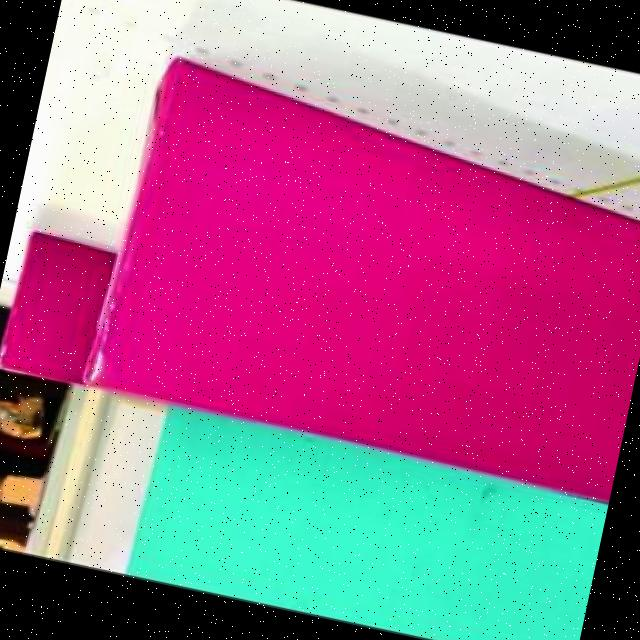xparking: (103, 58, 640, 495), (1, 232, 116, 380)
